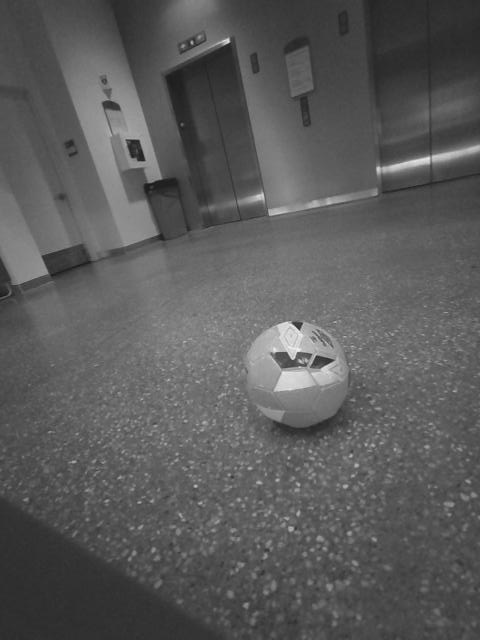ball: (234, 314, 357, 430)
